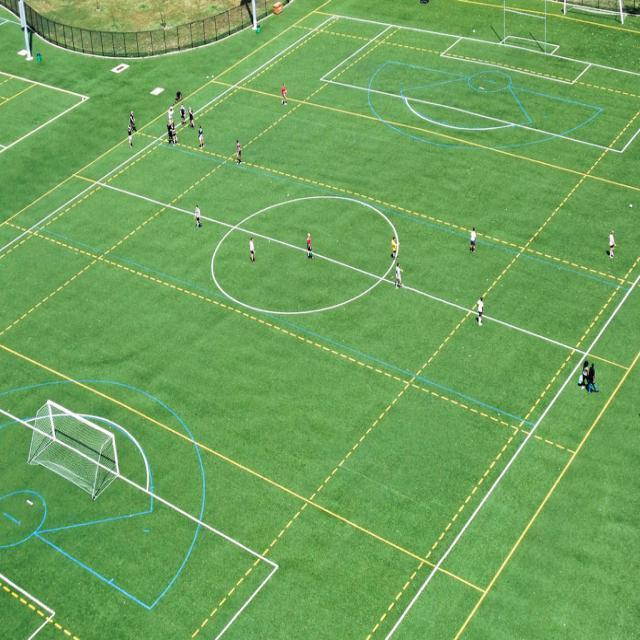ball: (630, 203, 633, 208)
